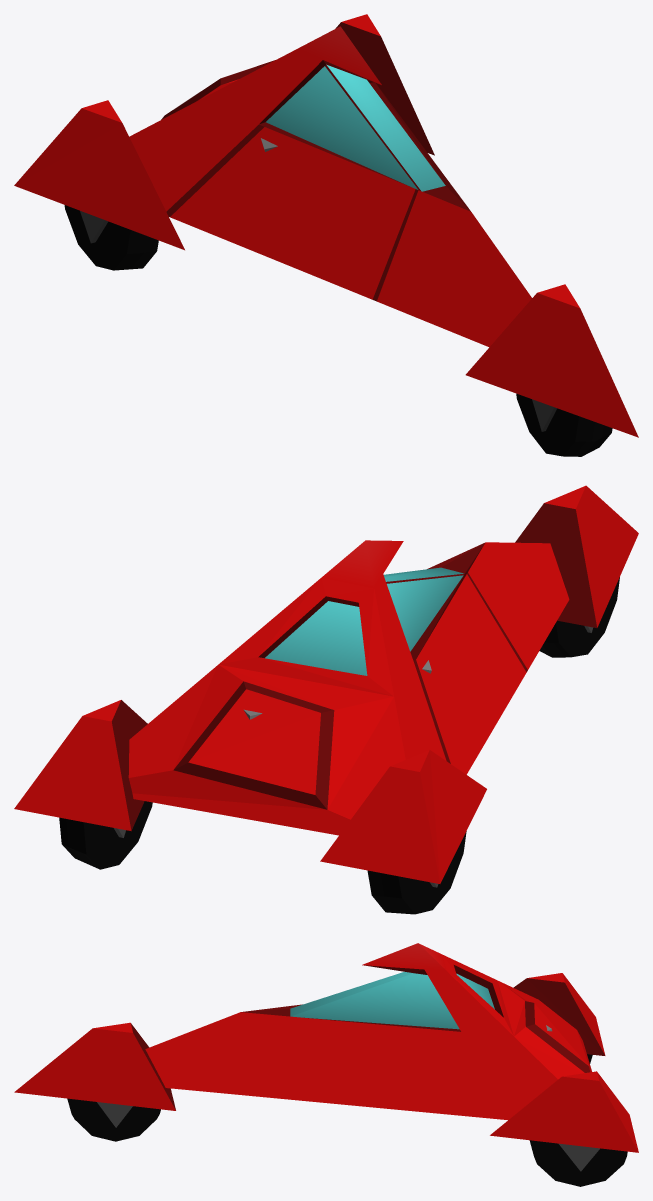
Rendered from c_car_triangle_ab.fbx.
3 renders of one model, top to bottom at view 1: azimuth 30°, elevation 25°; view 2: azimuth 150°, elevation 25°; view 3: azimuth 270°, elevation 25°, orthographic. The views are drawn at different scales.
Parts seen in each view (by area): view 1: c_car_triangle_ab; view 2: c_car_triangle_ab; view 3: c_car_triangle_ab.
Part boxes in pixels (box(x1,y1,x2,y2)): c_car_triangle_ab: box(14, 14, 638, 456); c_car_triangle_ab: box(14, 485, 638, 914); c_car_triangle_ab: box(14, 943, 638, 1186).
Size of the model in its own units: 3.1 by 2.05 by 6.01.
